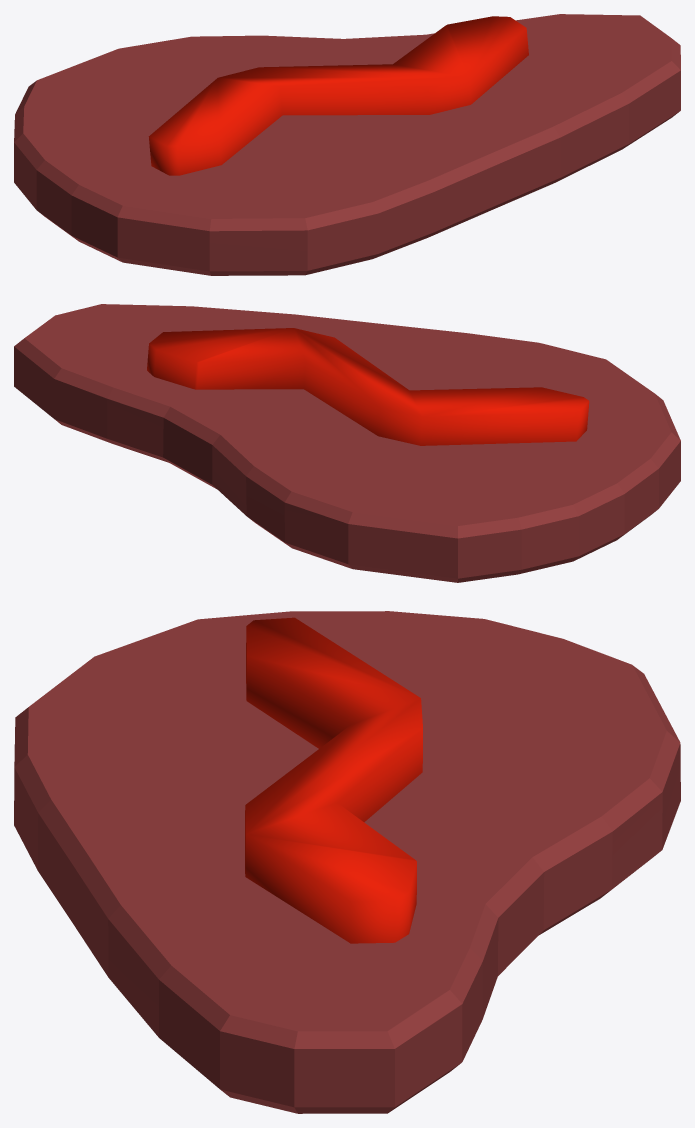
Rendered from TonkatsuPerfect.fbx.
3 views of the same model, one above another, from view 1: azimuth 30°, elevation 25°; view 2: azimuth 150°, elevation 25°; view 3: azimuth 270°, elevation 25° (orthographic). The views are drawn at different scales.
Parts seen in each view (by area): view 1: 円柱; view 2: 円柱; view 3: 円柱.
Boxes of the visible parts, bbox=[...] form: 円柱: bbox=[14, 14, 680, 275]; 円柱: bbox=[14, 304, 680, 582]; 円柱: bbox=[14, 611, 680, 1113].
Bounding box in the file's own units: 76.68 × 10.45 × 50.09.
